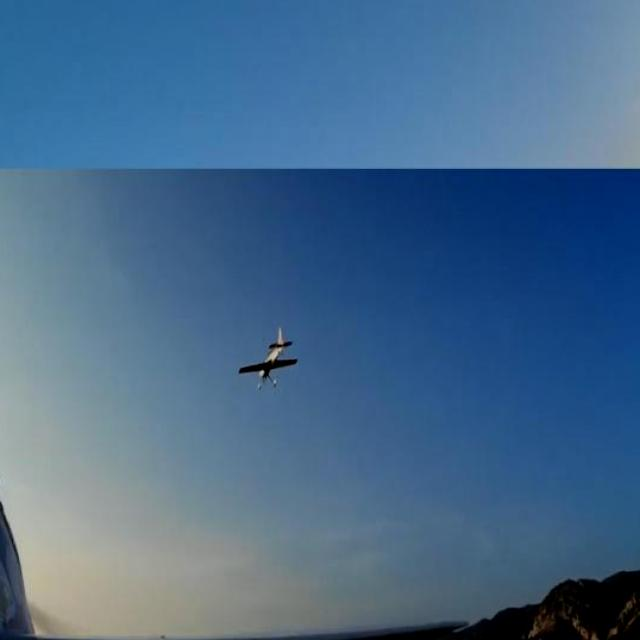plane: (240, 326, 300, 392)
